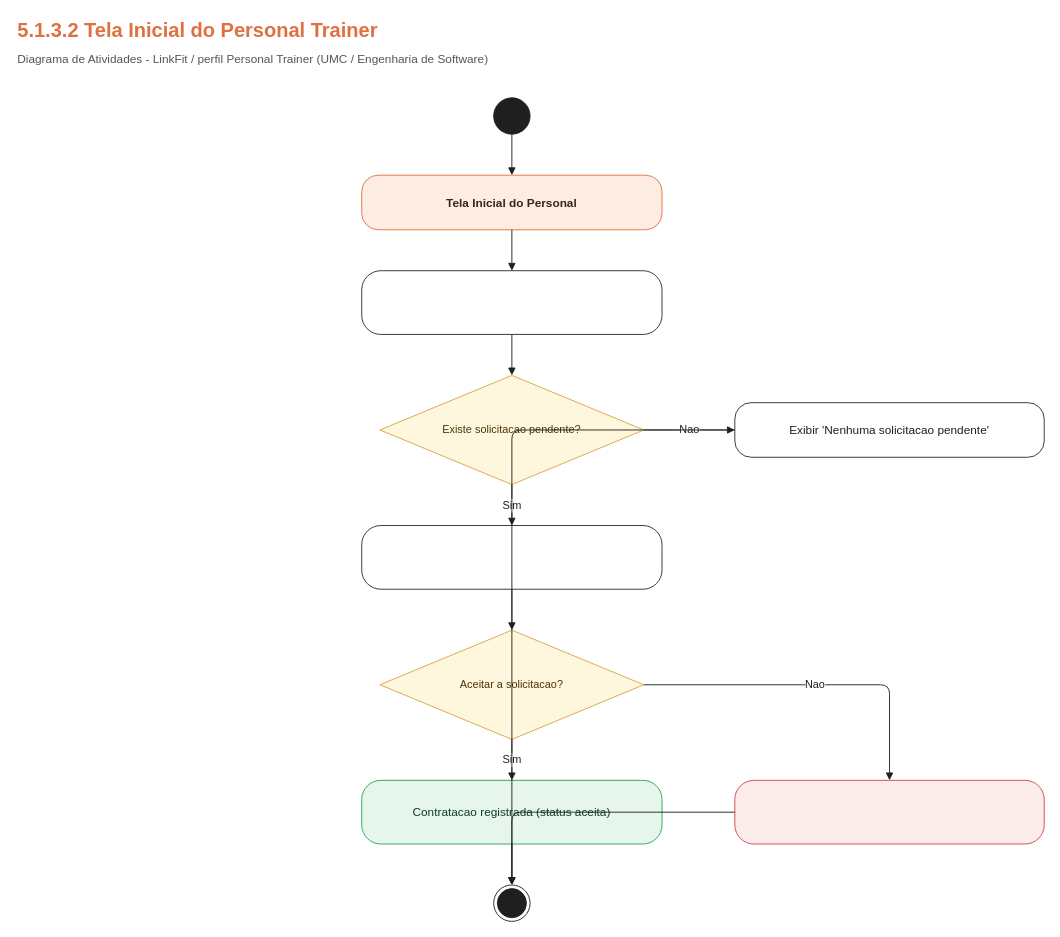
This 1060x937 diagram has some shape labels left out. The shapes that lost their labels are listed below. From the top down, each one's box as (x1, y1, x2, y2) in pixels, then its label:
(361, 270, 662, 334): Carregar alunos ativos, sessoes da semana e solicitacoes de contratacao
(361, 525, 662, 589): Analisar a solicitacao do aluno (objetivo e valor da sessao)
(734, 779, 1044, 844): Solicitacao recusada (status recusada)
